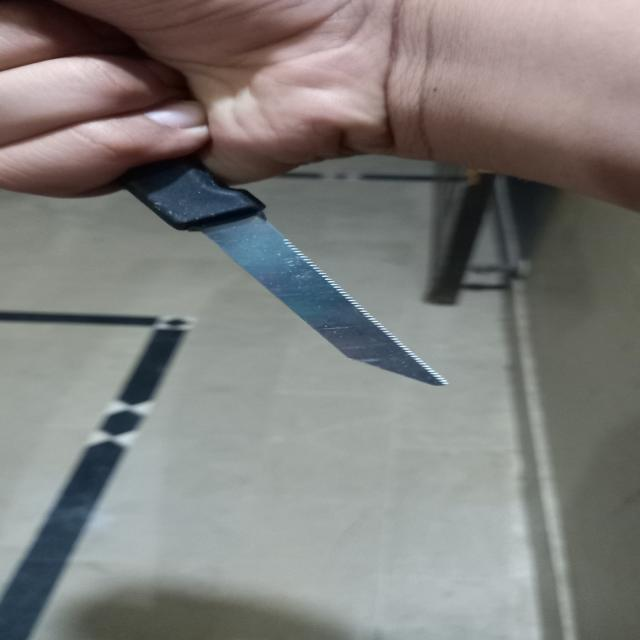weapon: (51, 53, 451, 390)
